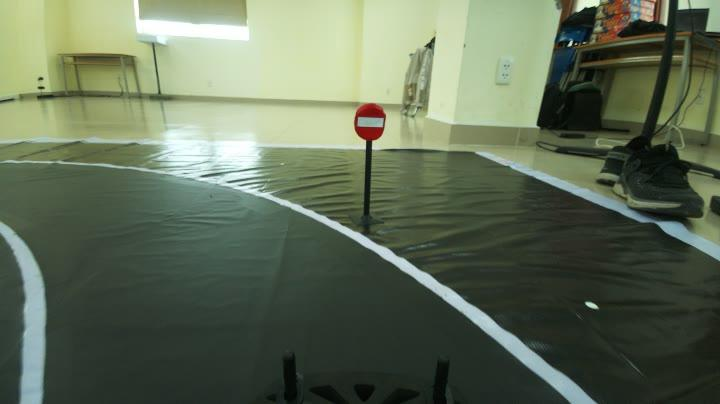no_entry: (342, 93, 386, 147)
